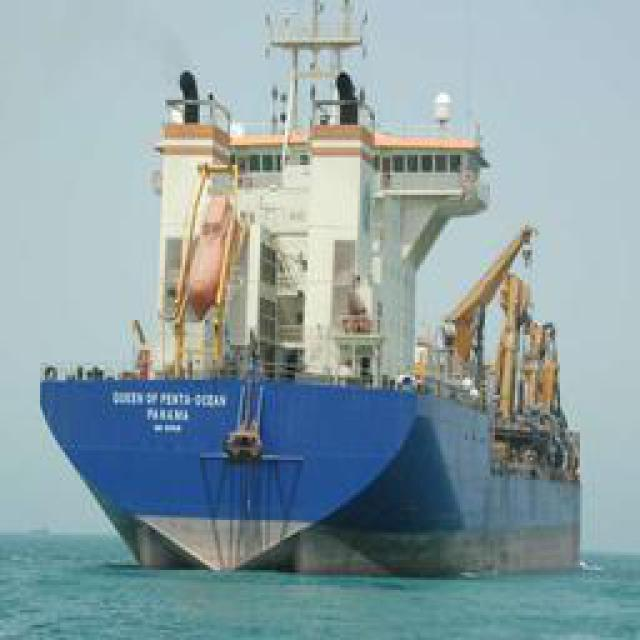Ship: (36, 30, 579, 578)
